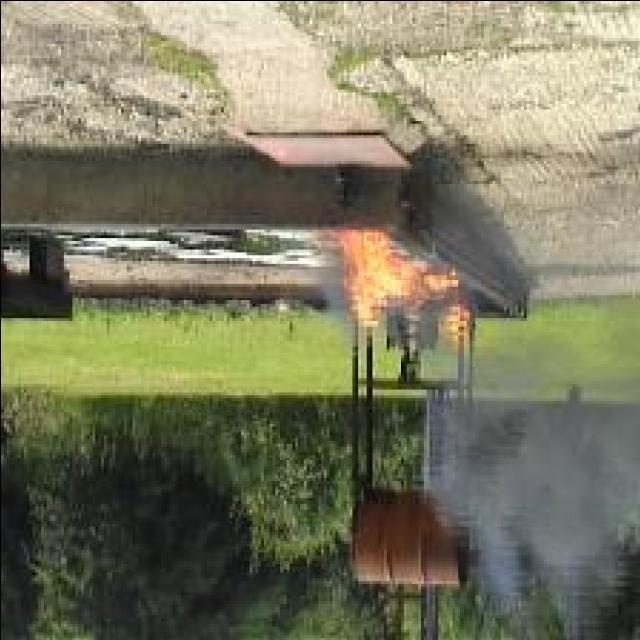Fire: (324, 233, 467, 347)
